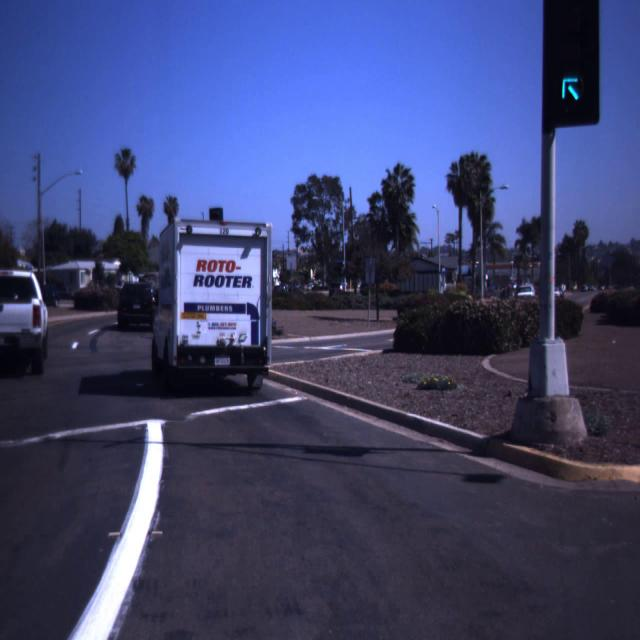yesil: (544, 0, 598, 125)
